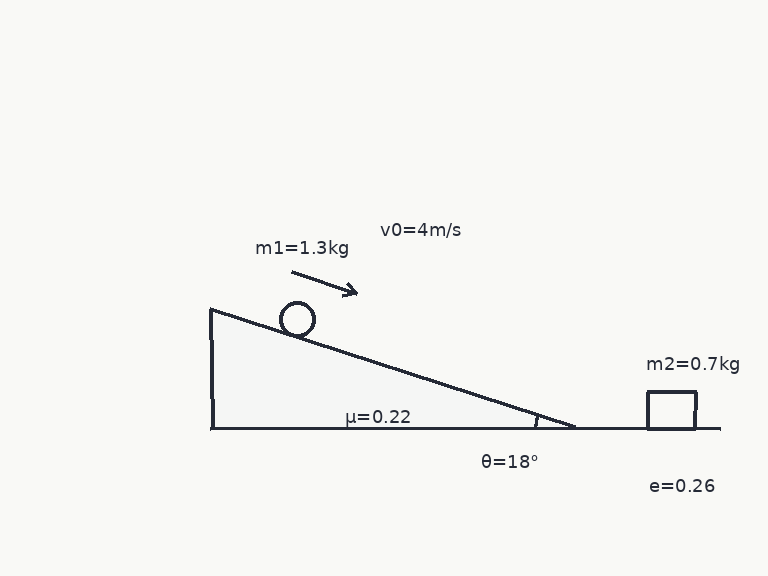ball: (277, 299, 317, 339)
block: (645, 390, 697, 430)
ramp: (209, 308, 577, 430)
